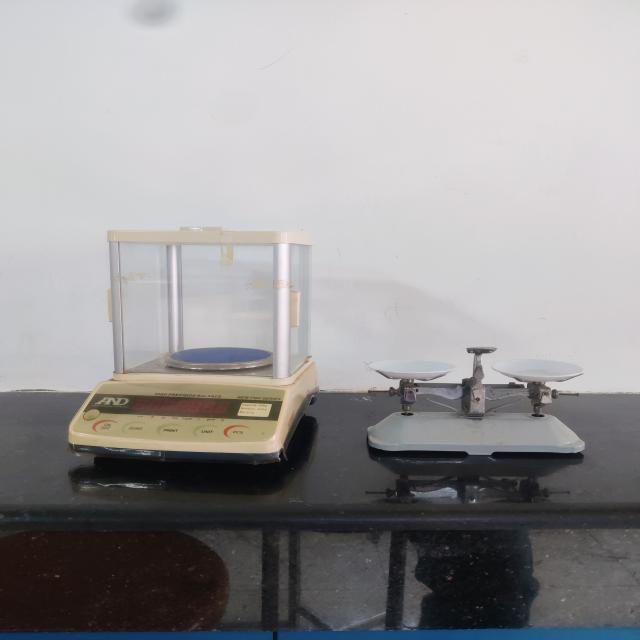Mechanical_Balance_Scale: (346, 319, 611, 506)
Precision_Weight_Scale: (73, 216, 335, 494)
